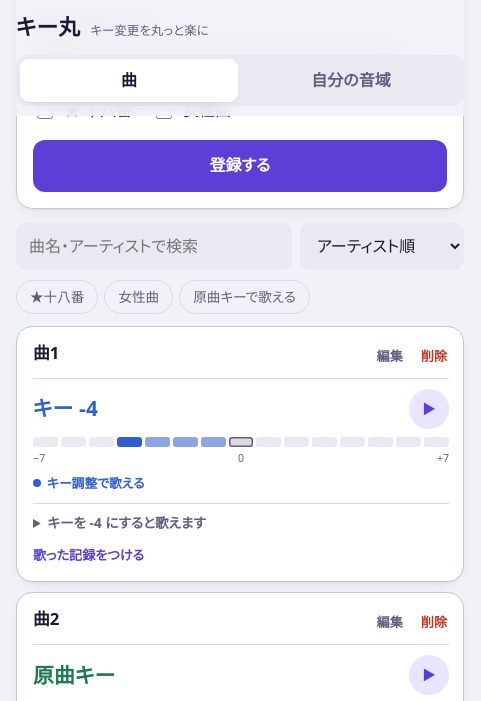
Test case: 一覧と編集のそのほかの操作 › 編集中の曲を削除すると、編集フォームも閉じる
(page scrolled)
Click the button "編集" in the row of "曲1". click: click(390, 356)
box: [368,341,411,372]
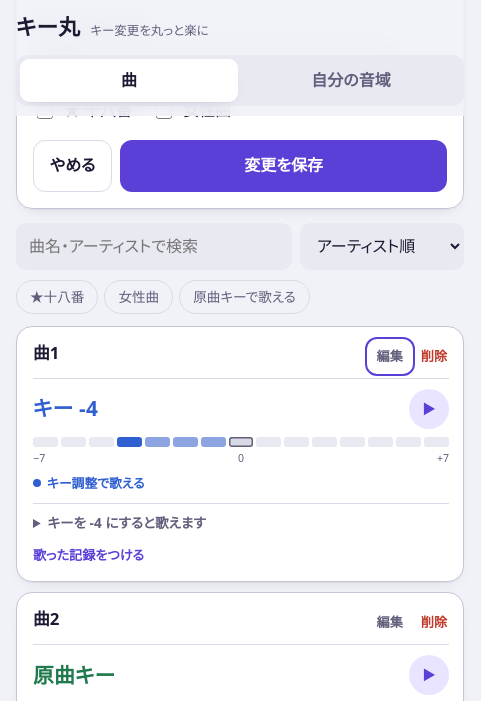
Click the button "削除" in the row of "曲1". click: click(434, 356)
box: [413,341,455,372]
(page scrolled)
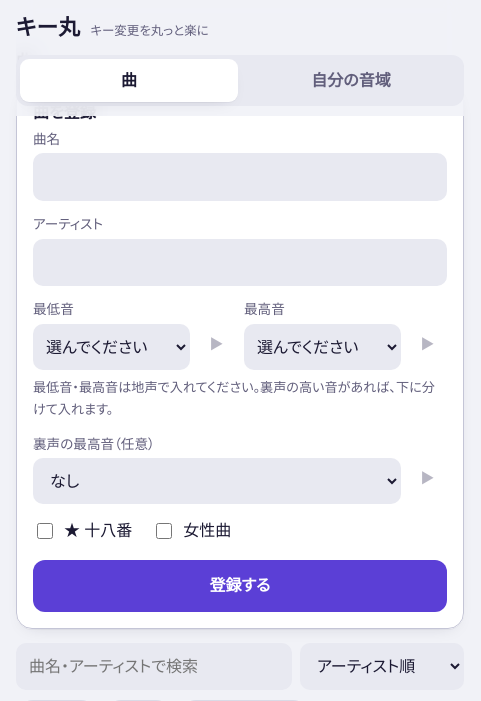
Now the element "曲を登録" is shown
